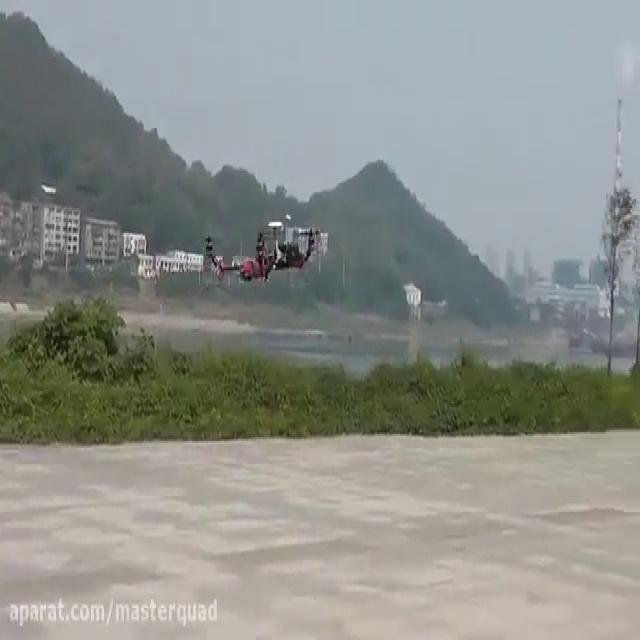drone: (198, 210, 326, 290)
